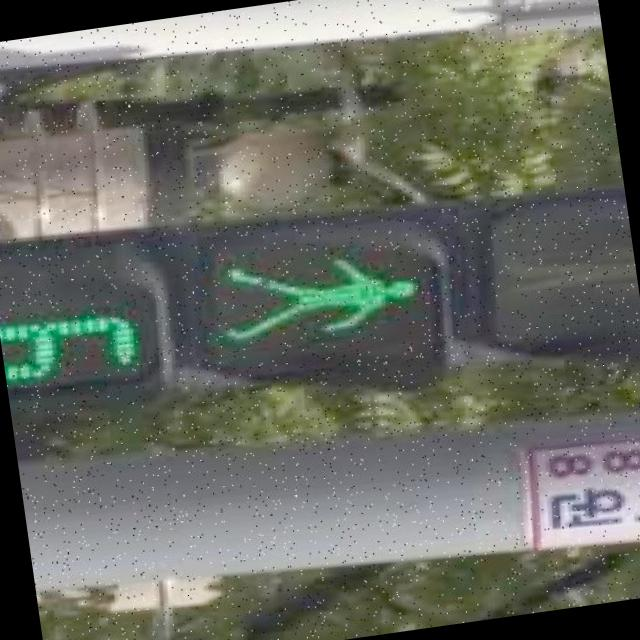green_light: (0, 207, 447, 421)
